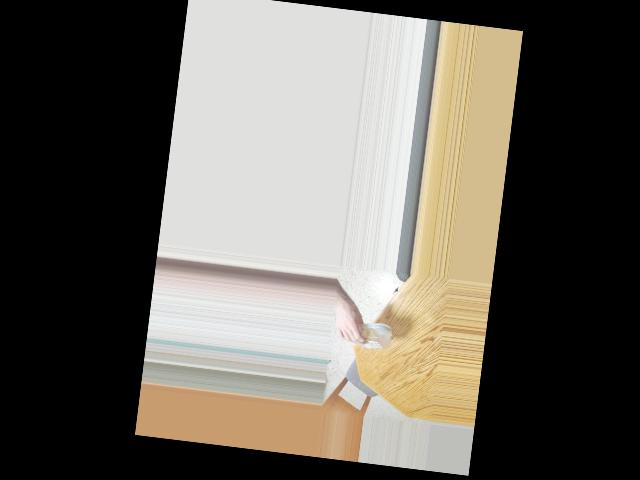cheese: (351, 303, 395, 360)
